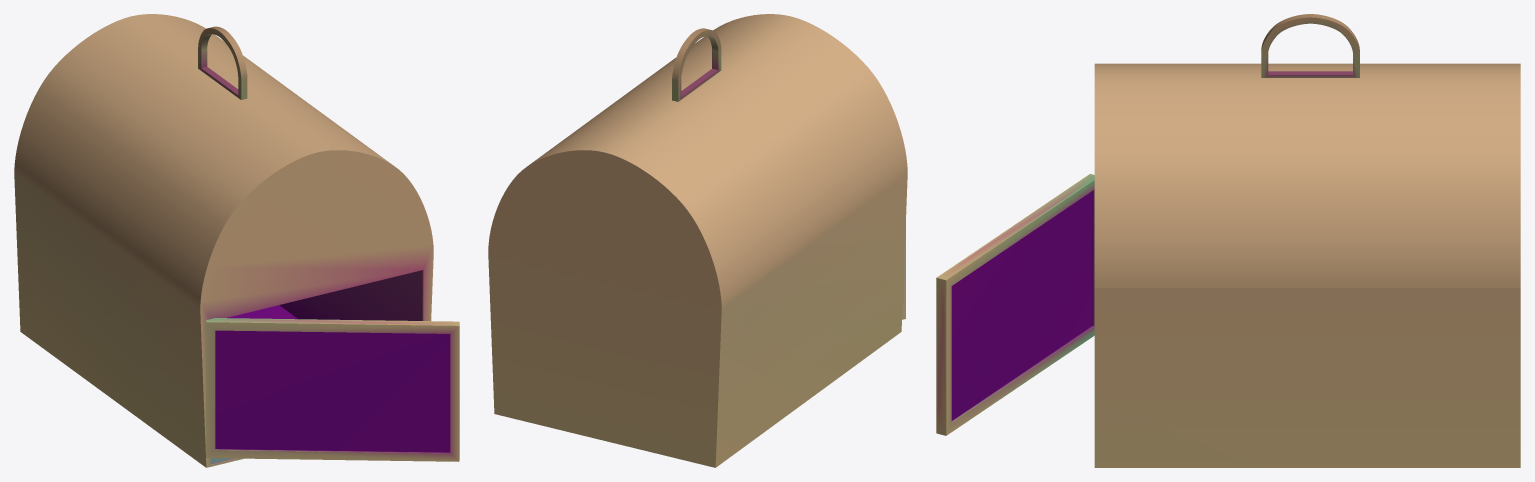
3 views of the same model, side by side, from view 1: azimuth 30°, elevation 25°; view 2: azimuth 150°, elevation 25°; view 3: azimuth 270°, elevation 25° (orthographic). The views are drawn at different scales.
Visible parts, largest first — view 1: arched_shell, door_panel, carrying_loop; view 2: arched_shell, carrying_loop; view 3: arched_shell, door_panel, carrying_loop.
Part boxes in pixels (x1,y1,x2,y2): arched_shell: (14, 14, 433, 467); door_panel: (206, 318, 459, 461); carrying_loop: (198, 26, 247, 99); arched_shell: (488, 14, 907, 467); carrying_loop: (672, 28, 721, 101); arched_shell: (1094, 63, 1520, 467); door_panel: (936, 174, 1094, 435); carrying_loop: (1261, 14, 1359, 77).
Size of the model in its own units: 0.266 by 0.3713 by 0.5035.
